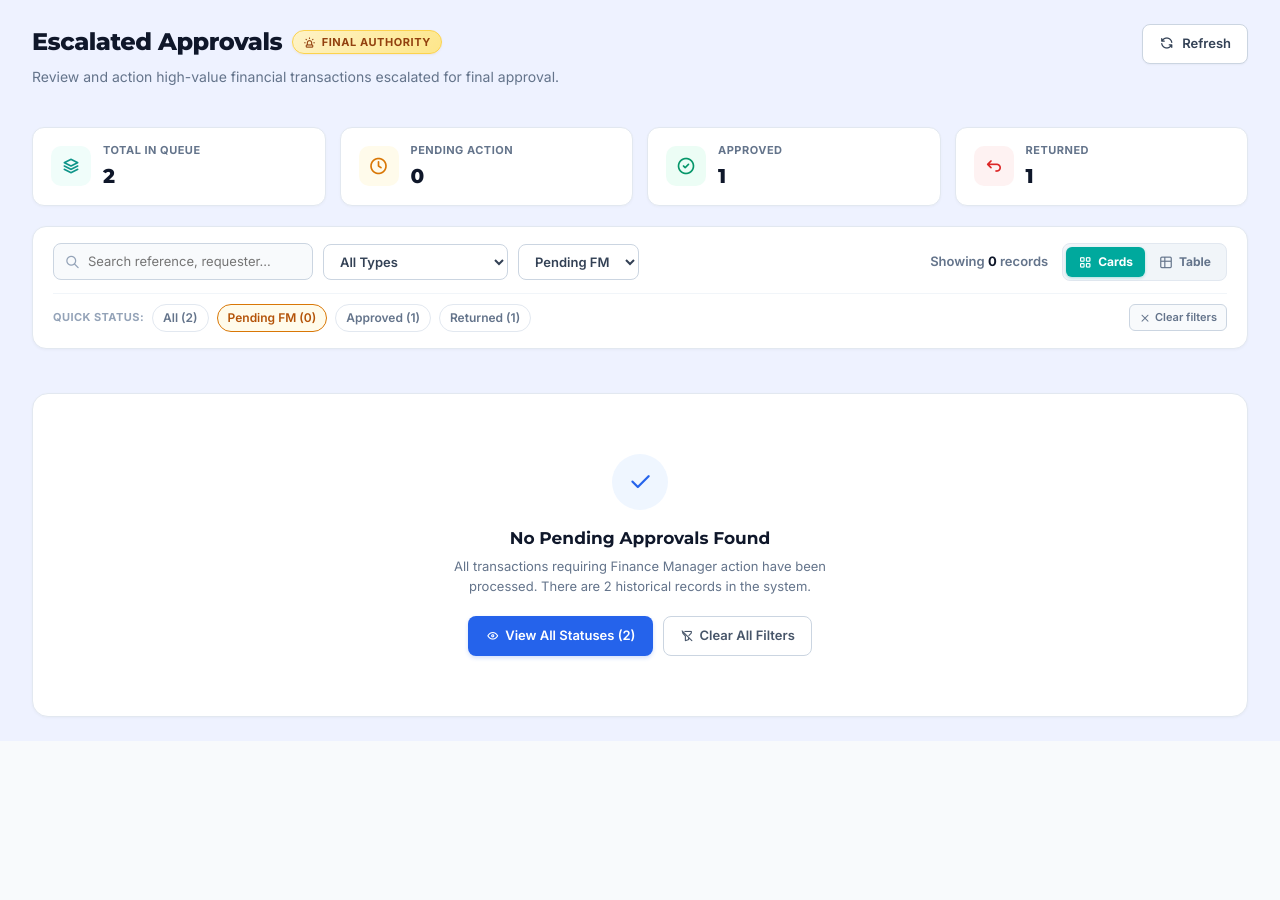
Test case: ApprovalsQueue — Status Filter & View Modes (Cards & Table) › provides quick "View All Statuses" button on empty state when filtered by Pending FM
The image size is (1280, 900).
Expected: the heading "No Pending Approvals Found" is shown, [510,528,770,548]
Click "View All Statuses"
Click the button "View All Statuses (2)" at (561, 636), box [468,616,654,656]
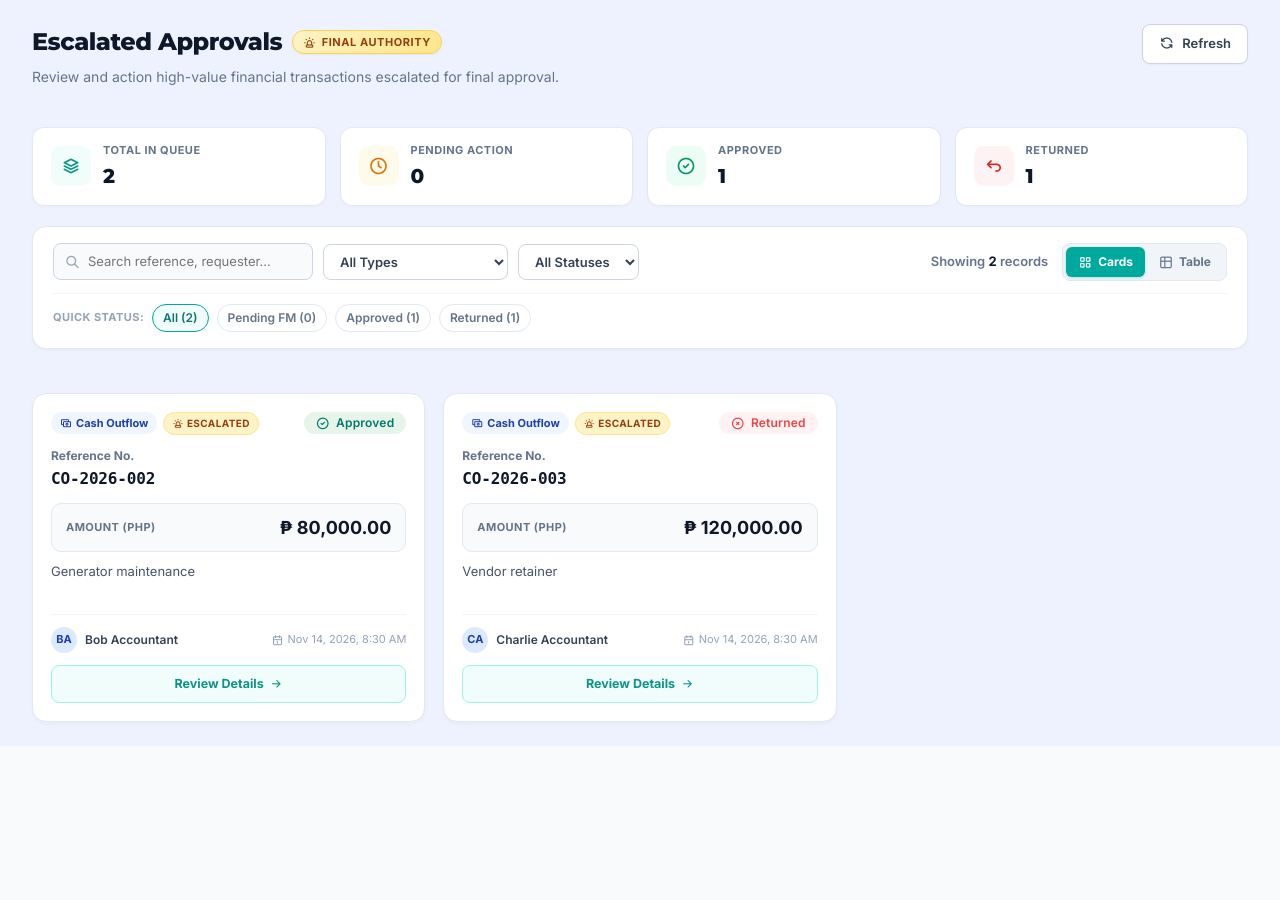
Result: the text "CO-2026-002" is shown at [51,468,155,488]
